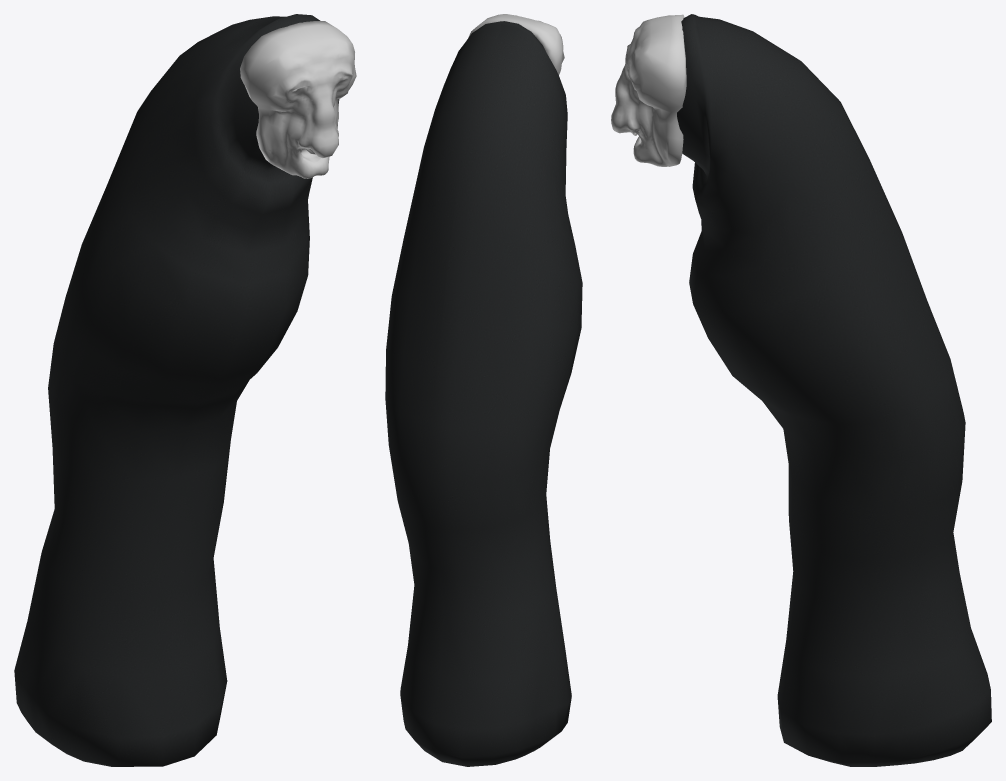
Rendered from Entidad_F3.obj.
3 views of the same model, side by side, from view 1: azimuth 30°, elevation 25°; view 2: azimuth 150°, elevation 25°; view 3: azimuth 270°, elevation 25° (orthographic). The views are drawn at different scales.
Visible parts, largest first — view 1: Object_7, 0; view 2: Object_7, 0; view 3: Object_7, 0.
Boxes of the visible parts, x1,y1,x2,y2 form: Object_7: (14, 14, 339, 766); 0: (240, 21, 356, 178); Object_7: (385, 21, 582, 766); 0: (468, 14, 564, 74); Object_7: (677, 14, 991, 766); 0: (611, 14, 686, 166).
Size of the model in its own units: 0.5256 by 1.76 by 0.8005.
